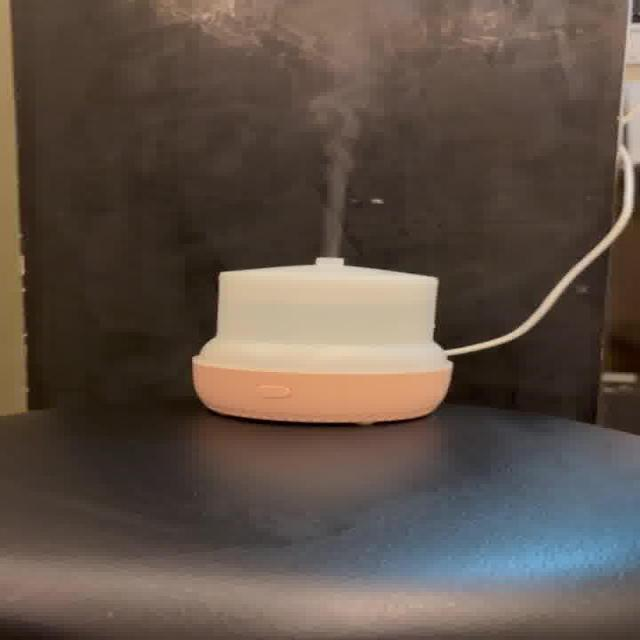fire: (314, 74, 360, 256)
